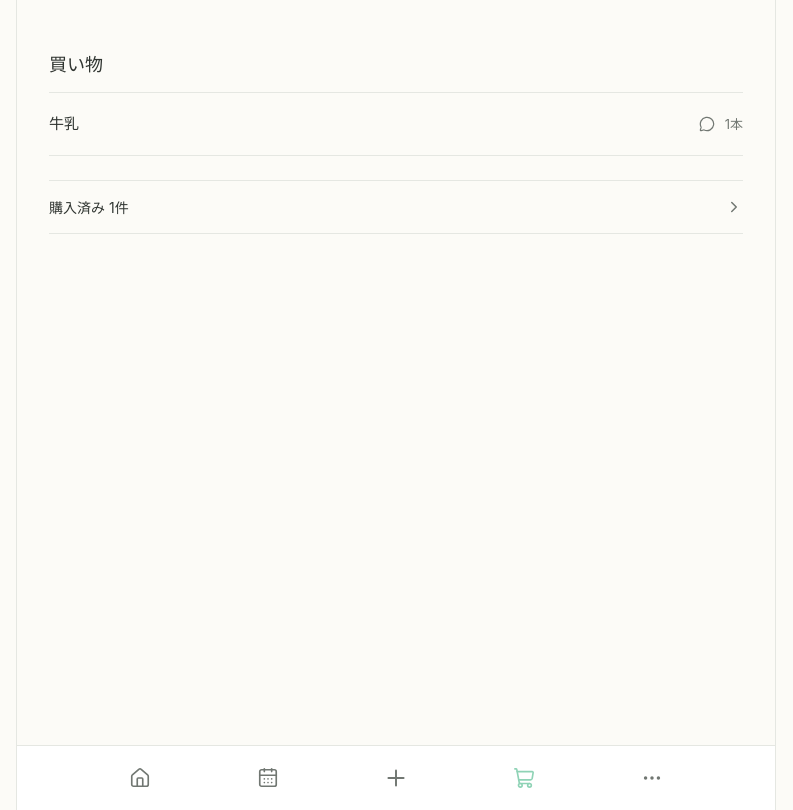
Scenario: App shopping UI › renders the canonical shopping list with a collapsed purchased section
The width and height of the screenshot is (793, 810).
Check: the heading "買い物" is shown, box [49, 54, 103, 75]
Check: the text "牛乳" is shown, box [49, 114, 79, 133]
Click the button "購入済み 1件" at (79, 208), box [49, 181, 743, 233]
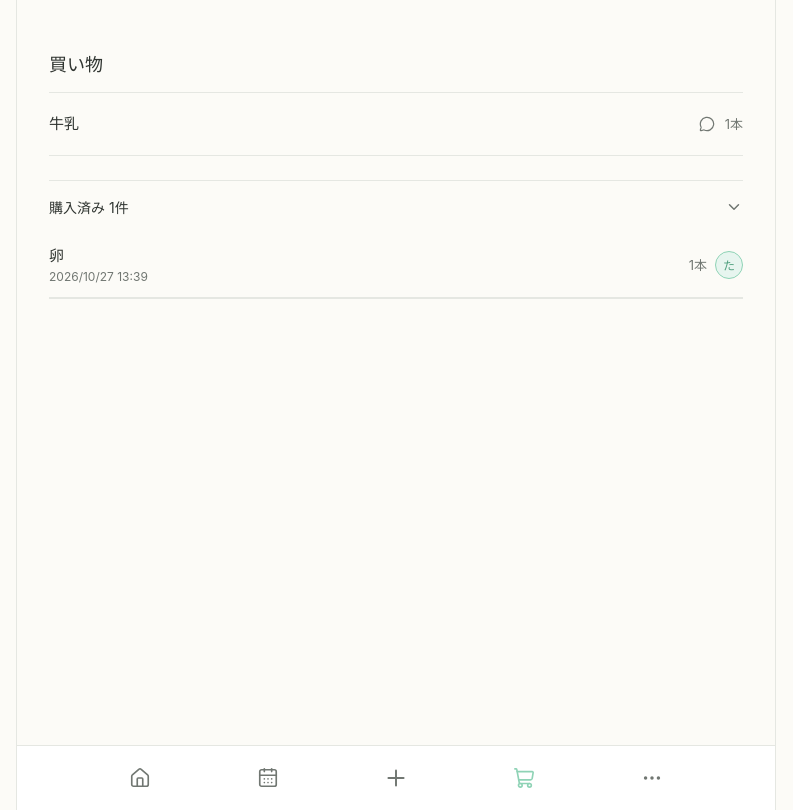
Check: the text "卵" is shown, box [49, 246, 64, 265]
Check: the text "2026/10/27 13:39" is shown, box [49, 269, 148, 284]
Check: the picture named "購入者: たくや" is shown, box [715, 251, 743, 279]
